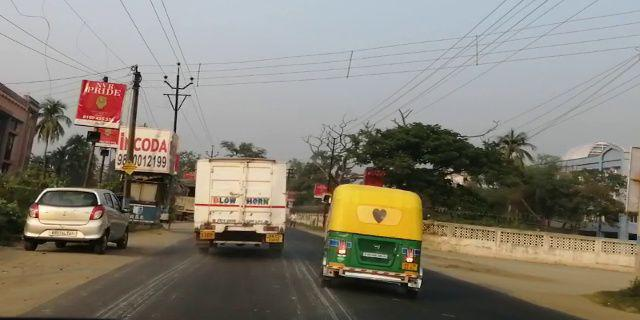Autorickshaw: (314, 180, 430, 297)
Car: (19, 184, 132, 258)
Minitruck: (187, 153, 289, 254)
